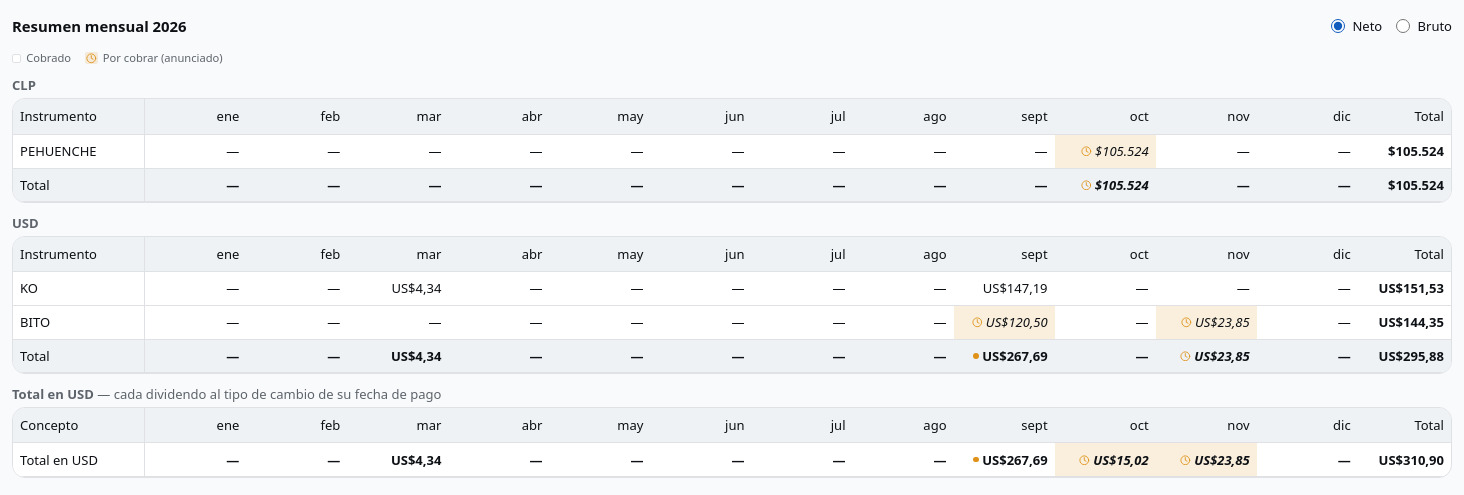
MonthlySummary — cobrado y por cobrar › el por cobrar también tiene tooltip
The image size is (1464, 495).
Click the button "$105.524" in the row of "PEHUENCHE" at x=1115, y=151, box 1081,142 -> 1149,160
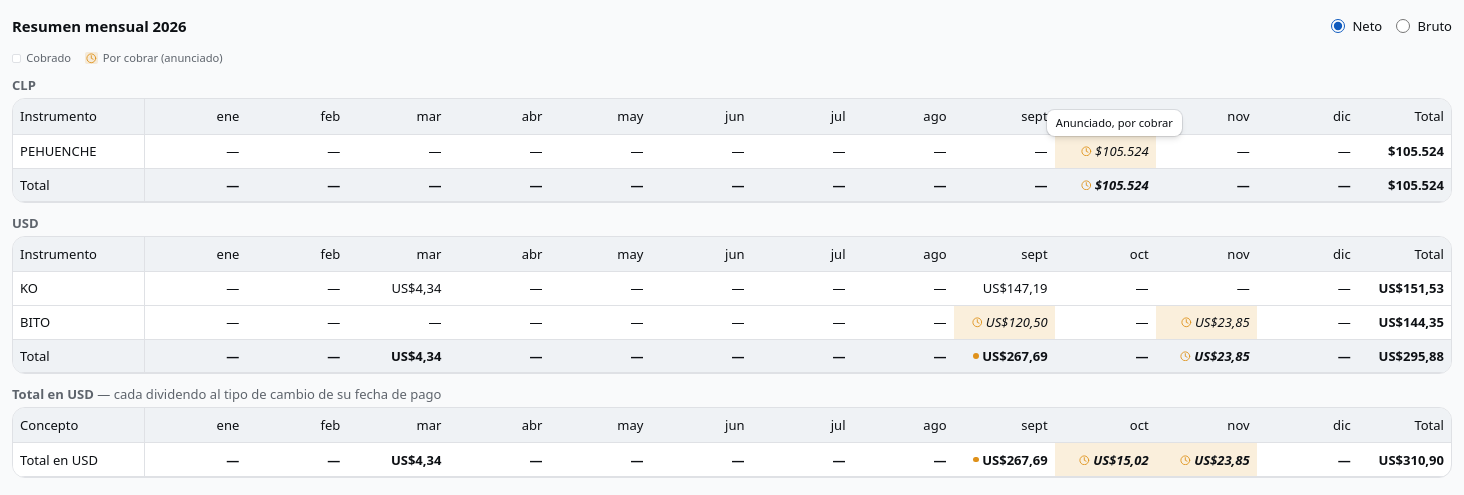
Now the tooltip reads "Anunciado, por cobrar", box 1056,115 -> 1173,130
